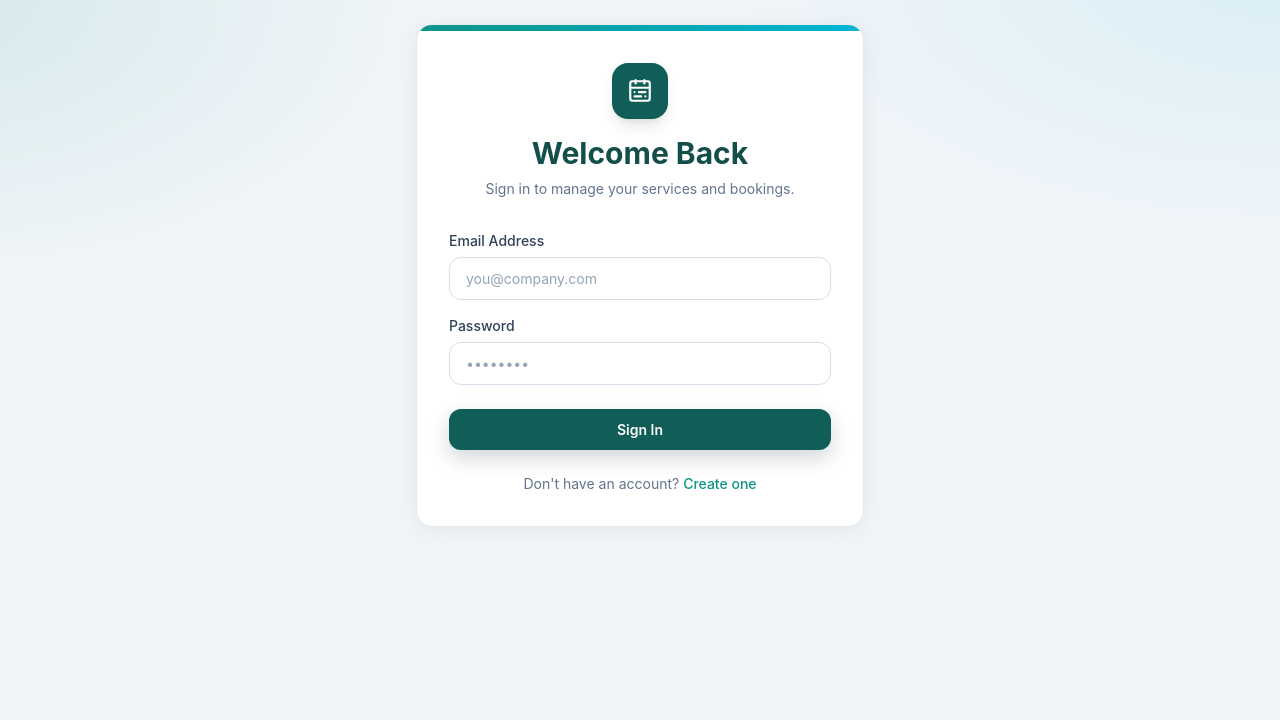
Test: Login Page › disables button while loading
The image size is (1280, 720).
Type "a@a.com" into the field labelled "Email Address" at (640, 278), box [449, 257, 831, 300]
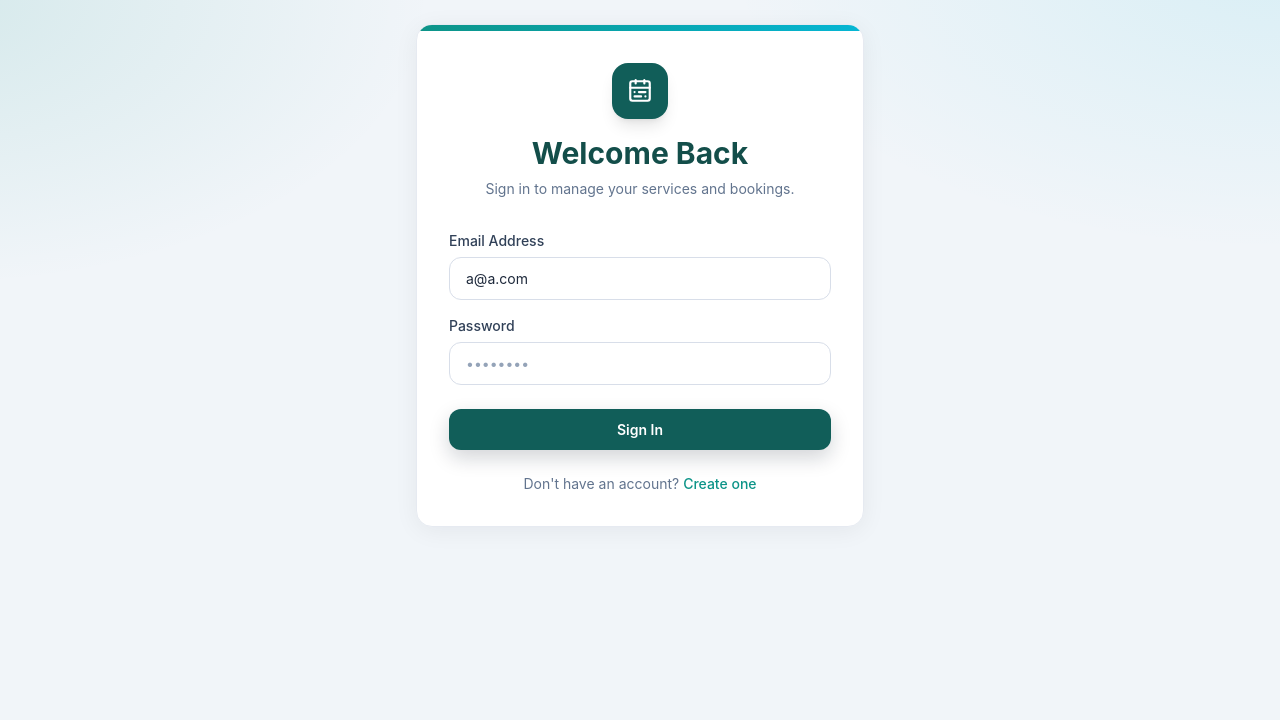
Type "pass" into the password field labelled "Password" at (640, 364), box [449, 342, 831, 385]
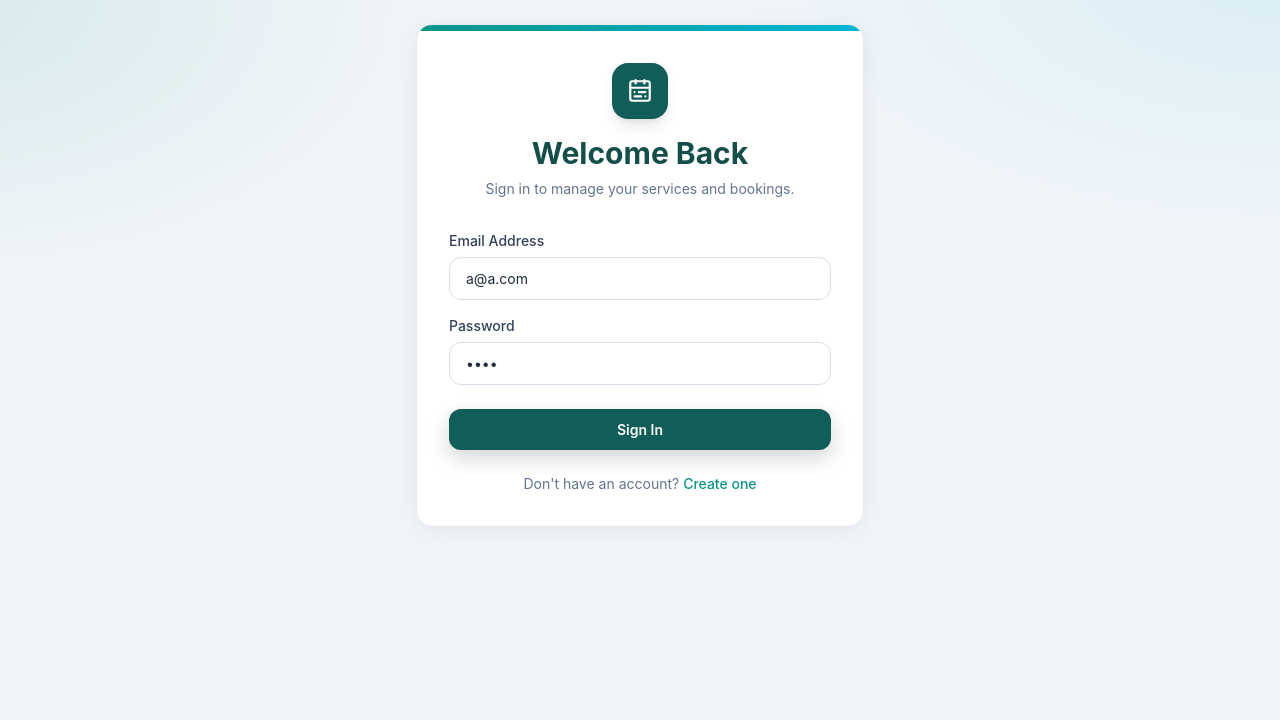
Click the button "Sign In" at (640, 430), box [449, 409, 831, 450]
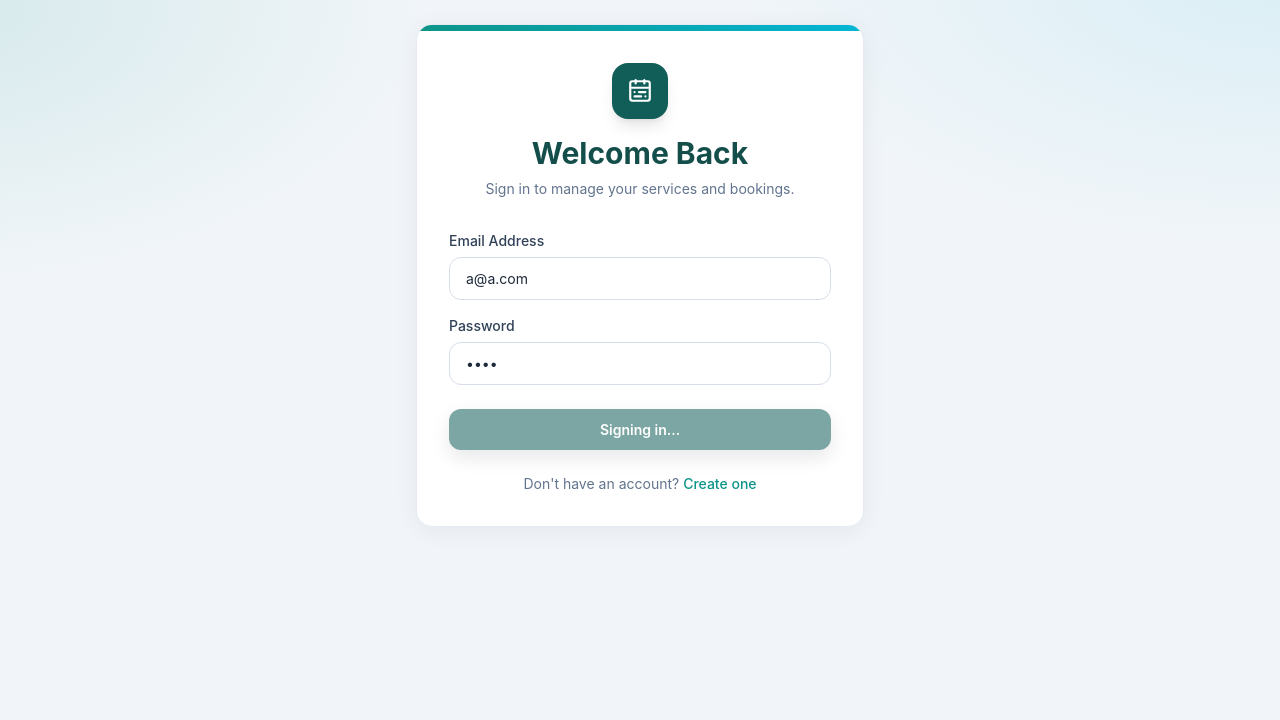
expect the button "Signing in..." is disabled: met, box [449, 409, 831, 450]
